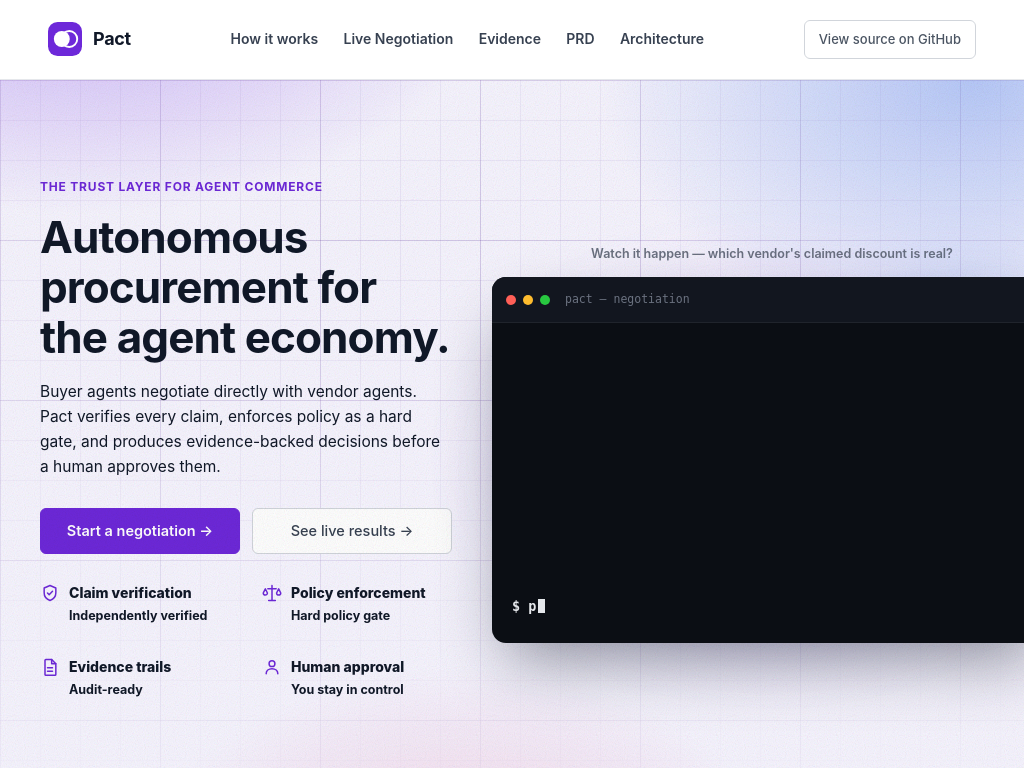
App › enters the negotiate view from the landing page's primary CTA
Click the button "Start a negotiation →".
click(140, 531)  # box x1=40 y1=508 x2=240 y2=554
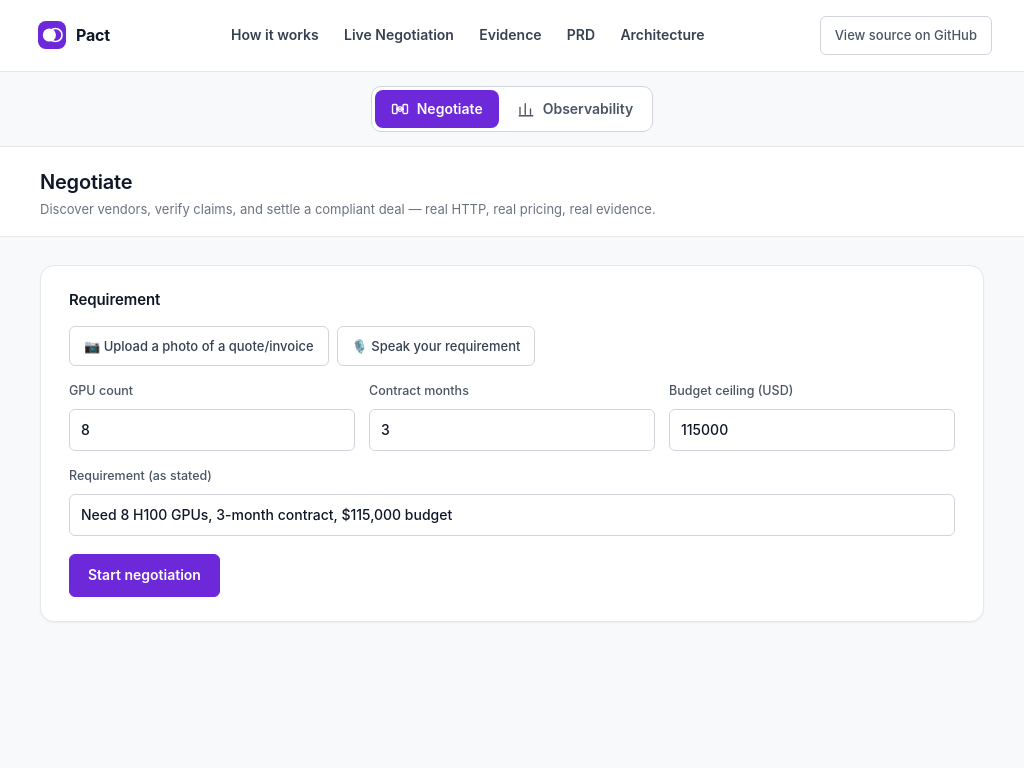
expect the number field showing "8" is shown: met, box x1=69 y1=408 x2=355 y2=451
expect the number field showing "3" is shown: met, box x1=369 y1=408 x2=655 y2=451
expect the number field showing "115000" is shown: met, box x1=669 y1=408 x2=955 y2=451
